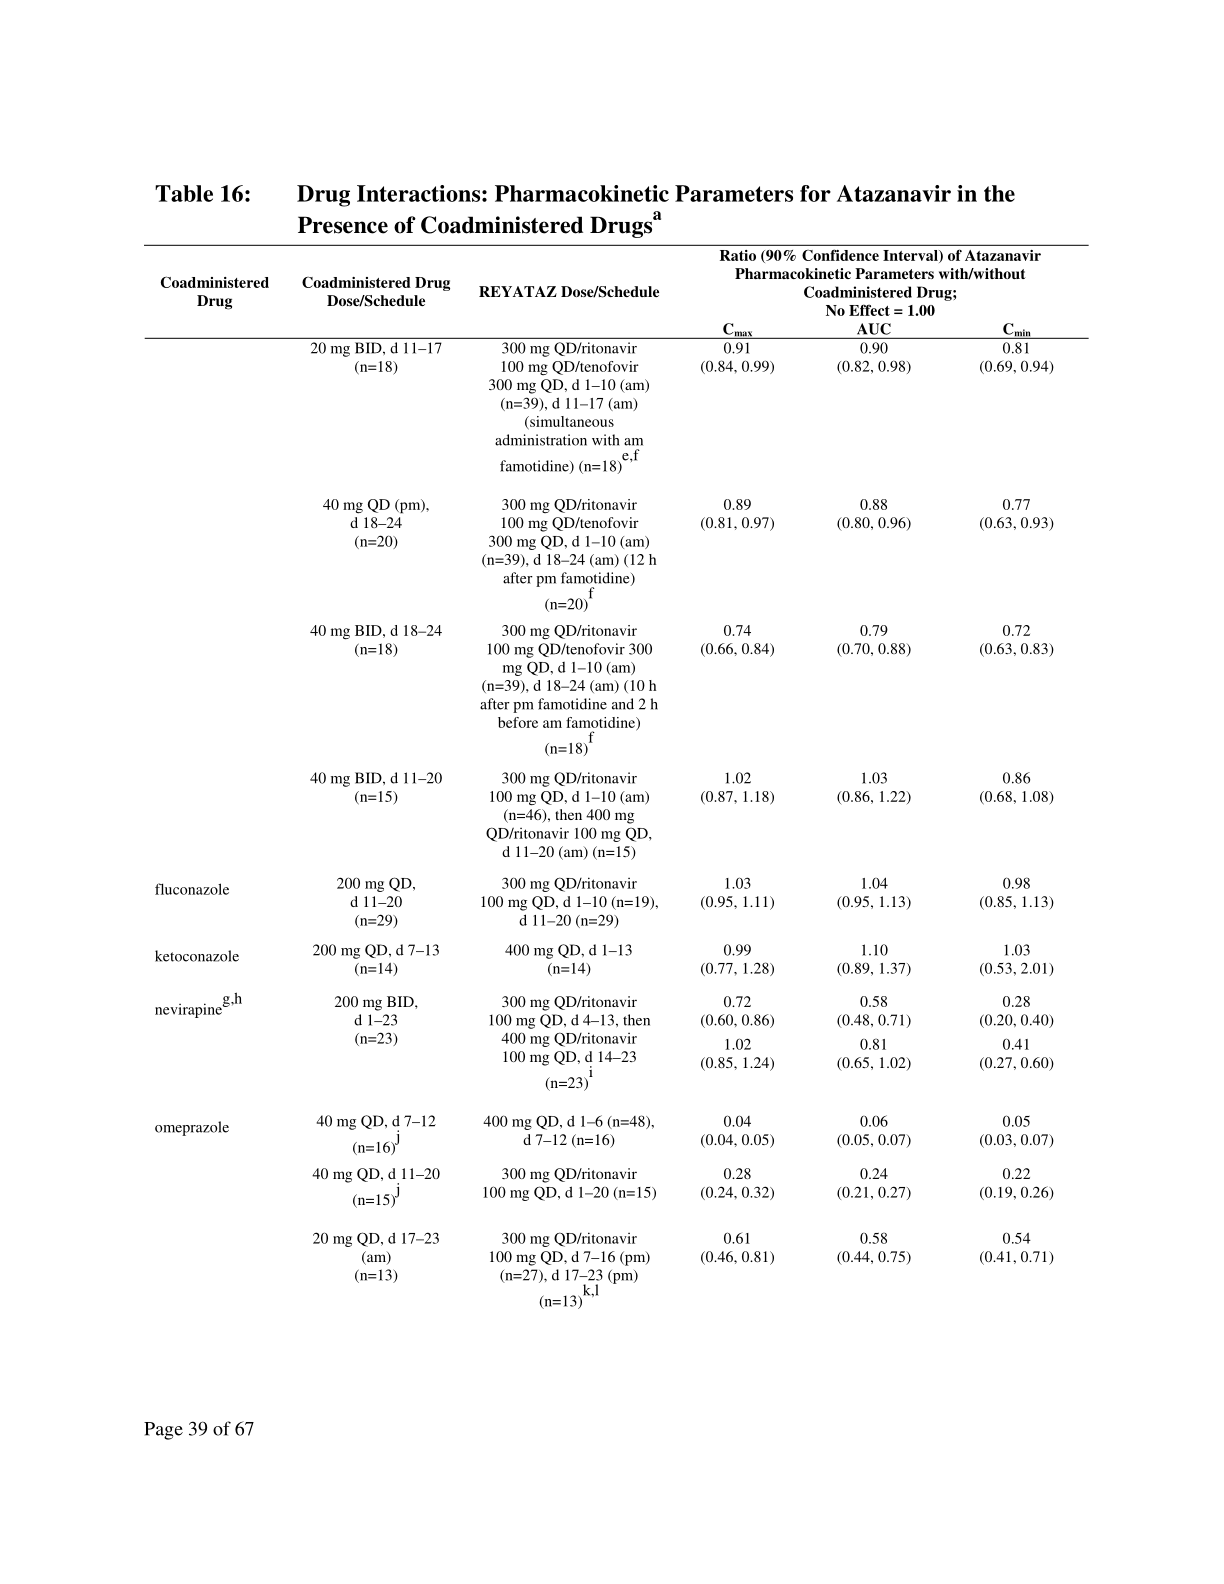partial_lined_merged_cells: (141, 242, 1092, 1311)
